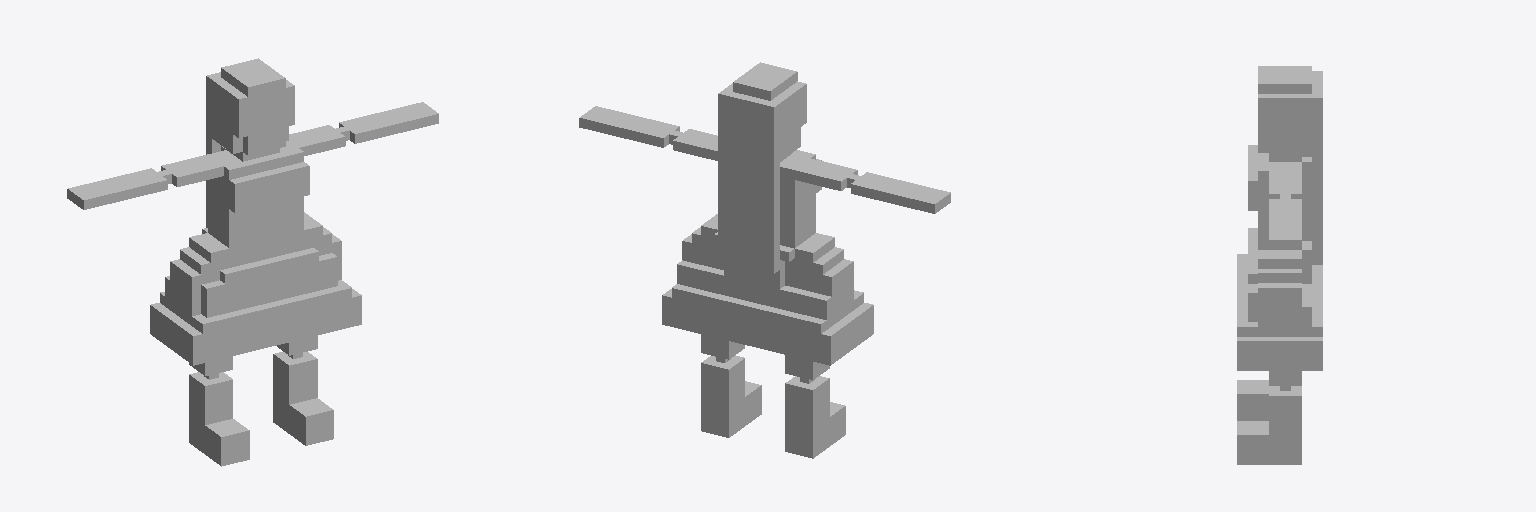
The model's file is maid.obj.
3 renders of one model, left to right at view 1: azimuth 30°, elevation 25°; view 2: azimuth 150°, elevation 25°; view 3: azimuth 270°, elevation 25°, orthographic.
Parts seen in each view (by area): view 1: object 1; view 2: object 1; view 3: object 1.
Boxes of the visible parts, x1,y1,x2,y2 form: object 1: [67, 58, 438, 466]; object 1: [579, 62, 950, 458]; object 1: [1237, 66, 1322, 464].
Size of the model in its own units: 3.8 by 3.7 by 0.8.